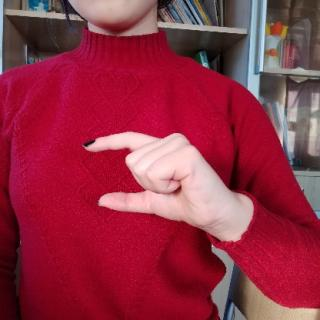DELL: (80, 123, 238, 239)
